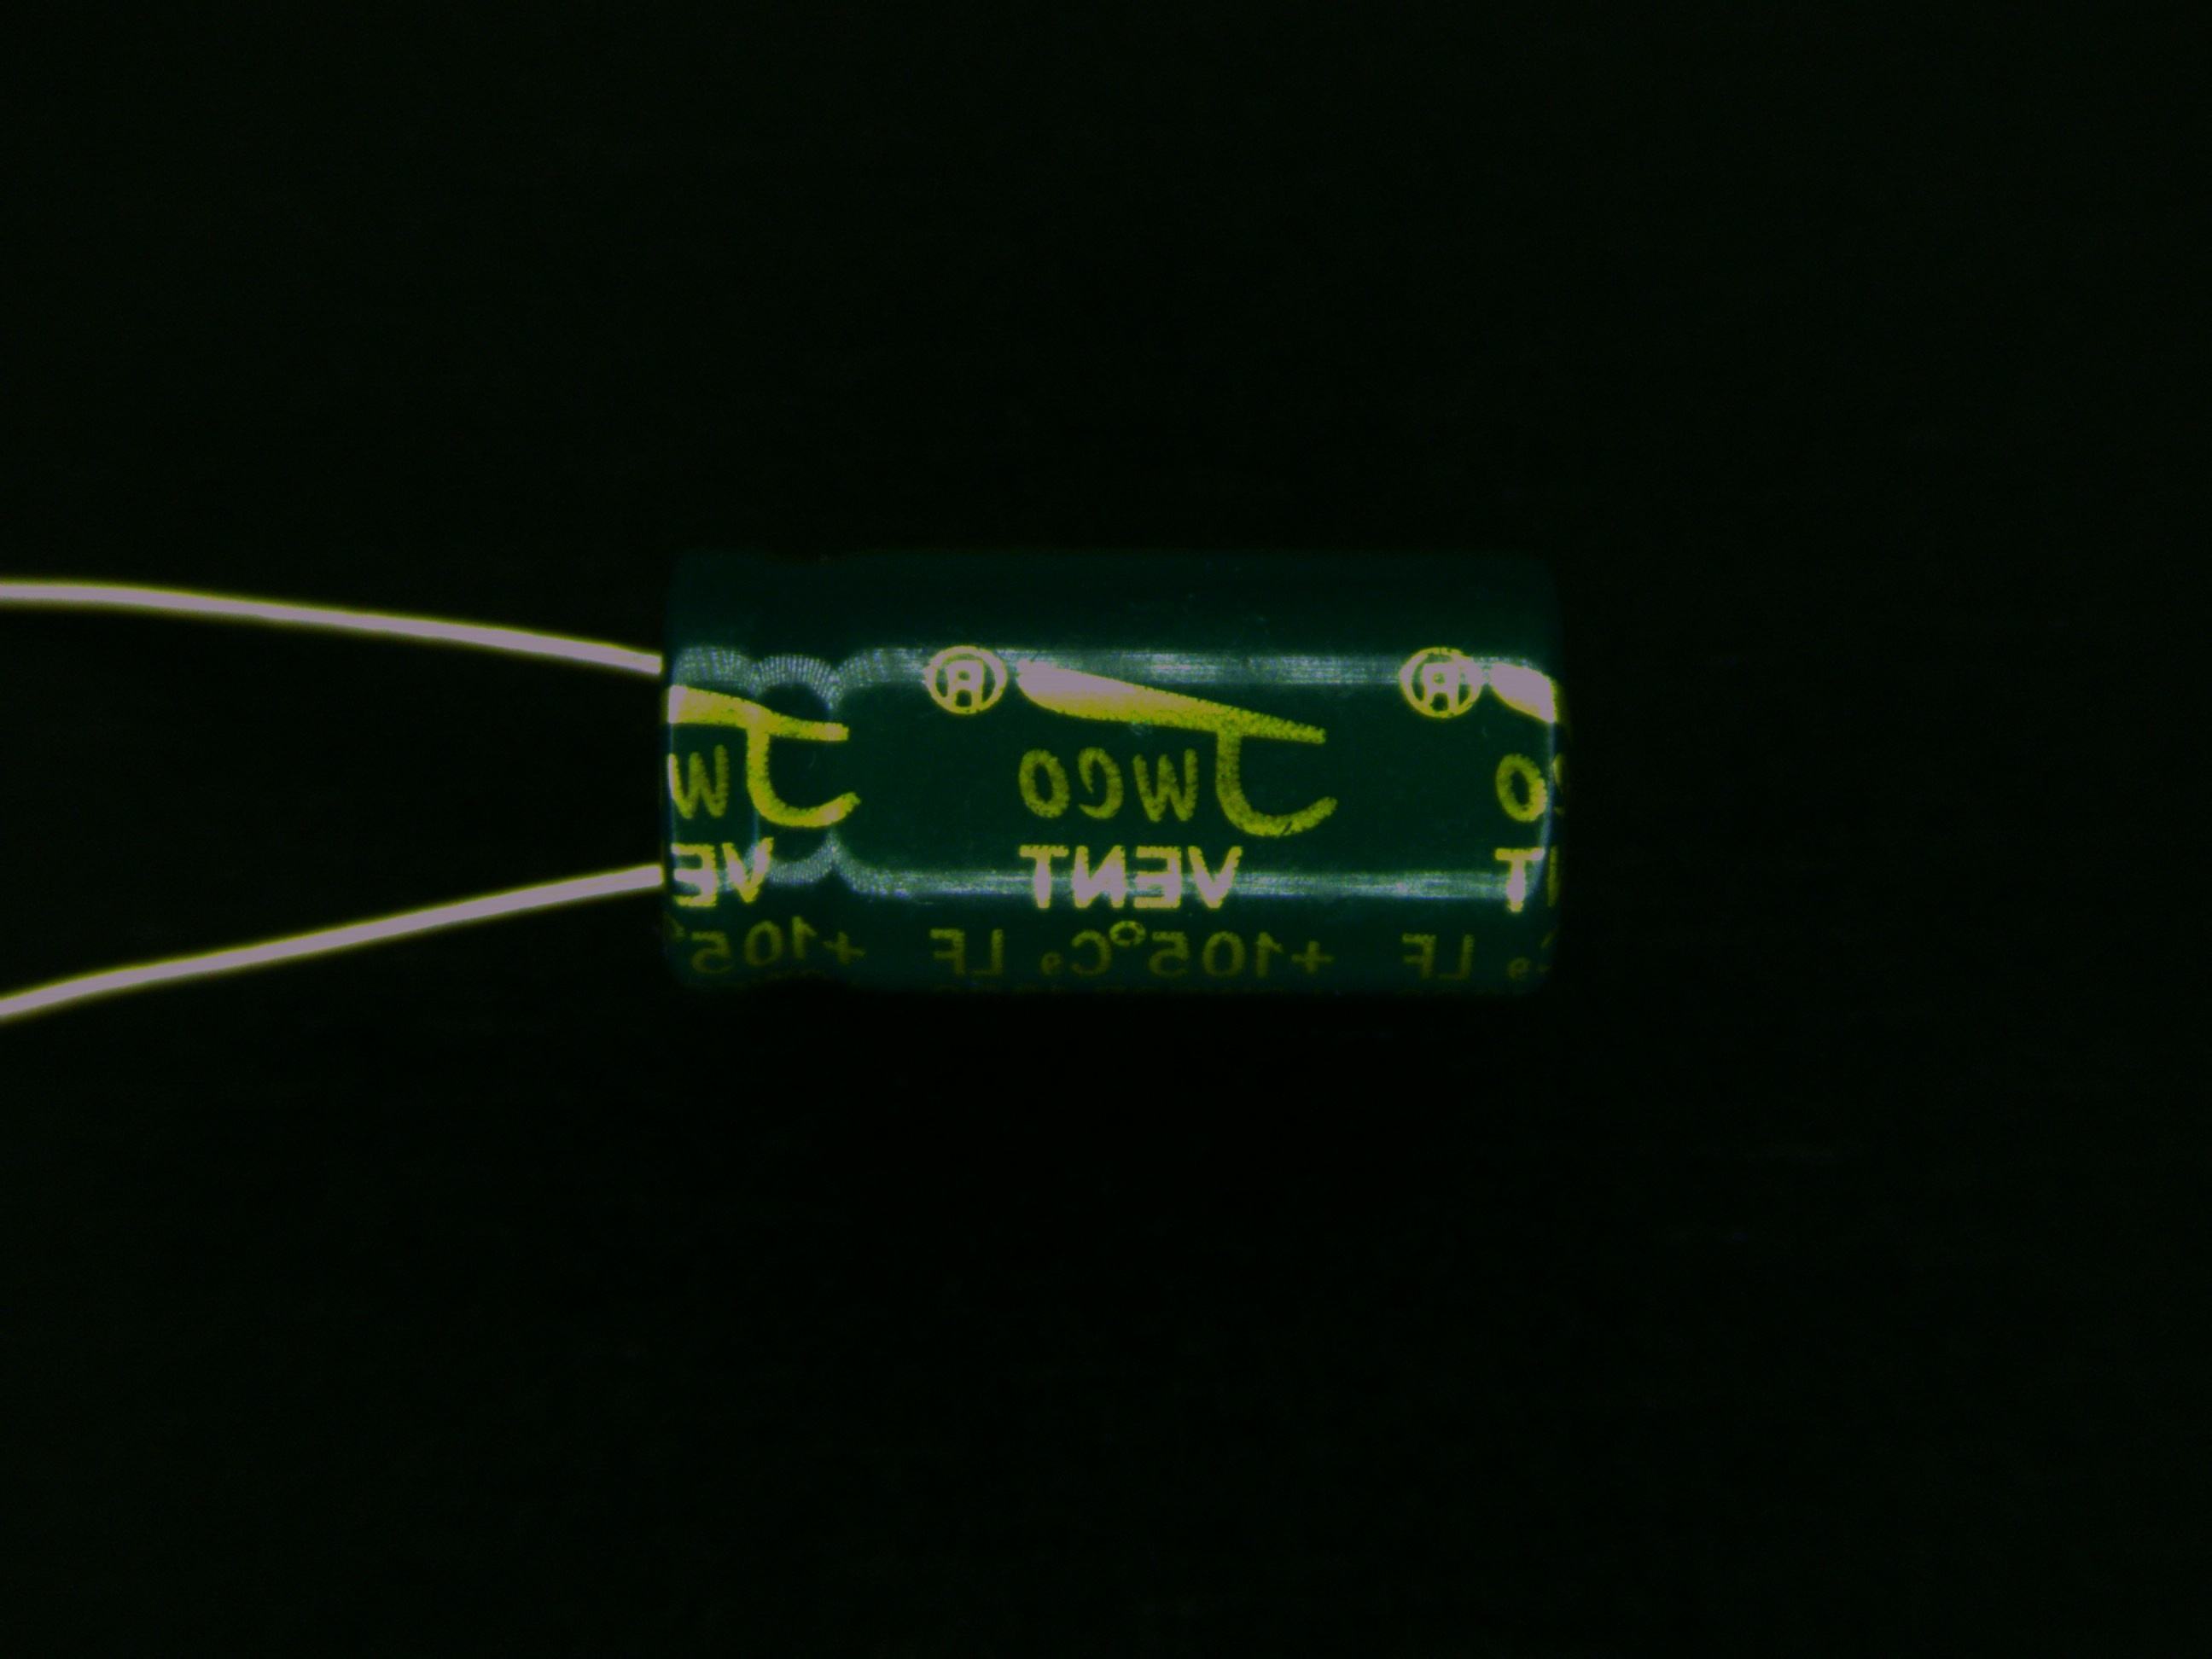c1: (521, 547, 1573, 1004)
